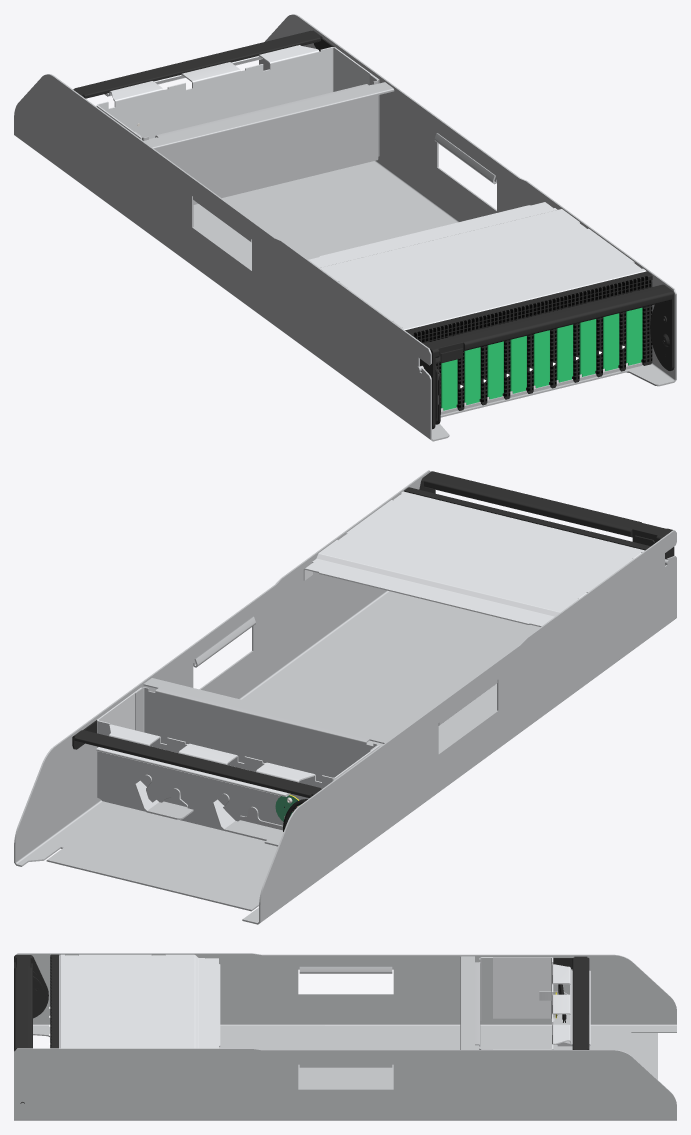
Rendered from cosmo-ext-1-mat.glb.
The picture shows the model from 3 angles, top to bottom: view 1: azimuth 30°, elevation 25°; view 2: azimuth 150°, elevation 25°; view 3: azimuth 270°, elevation 25°; orthographic projection. The views are drawn at different scales.
Parts seen in each view (by area): view 1: Frame_low.004_block.002, Frame_low.004_block.032, Plane.037, Plane.036, Plane.039, Plane.032, Plane.033, Plane.034, Plane.035, Plane.038, Plane.031; view 2: Frame_low.004_block.002, Frame_low.004_block.032; view 3: Frame_low.004_block.002, Frame_low.004_block.032.
Part boxes in pixels (x1=…): Frame_low.004_block.002: x1=14, y1=14, x2=676, y2=441; Frame_low.004_block.032: x1=405, y1=271, x2=652, y2=414; Plane.037: x1=579, y1=319, x2=596, y2=376; Plane.036: x1=556, y1=324, x2=573, y2=382; Plane.039: x1=626, y1=307, x2=642, y2=365; Plane.032: x1=464, y1=347, x2=480, y2=404; Plane.033: x1=487, y1=341, x2=503, y2=399; Plane.034: x1=510, y1=336, x2=526, y2=393; Plane.035: x1=533, y1=330, x2=549, y2=388; Plane.038: x1=603, y1=313, x2=619, y2=371; Plane.031: x1=441, y1=359, x2=457, y2=410; Frame_low.004_block.002: x1=14, y1=470, x2=676, y2=924; Frame_low.004_block.032: x1=404, y1=487, x2=650, y2=550; Frame_low.004_block.002: x1=14, y1=953, x2=676, y2=1120; Frame_low.004_block.032: x1=50, y1=954, x2=58, y2=1048.
Size of the model in its own units: 0.2659 by 0.0928 by 0.765.
